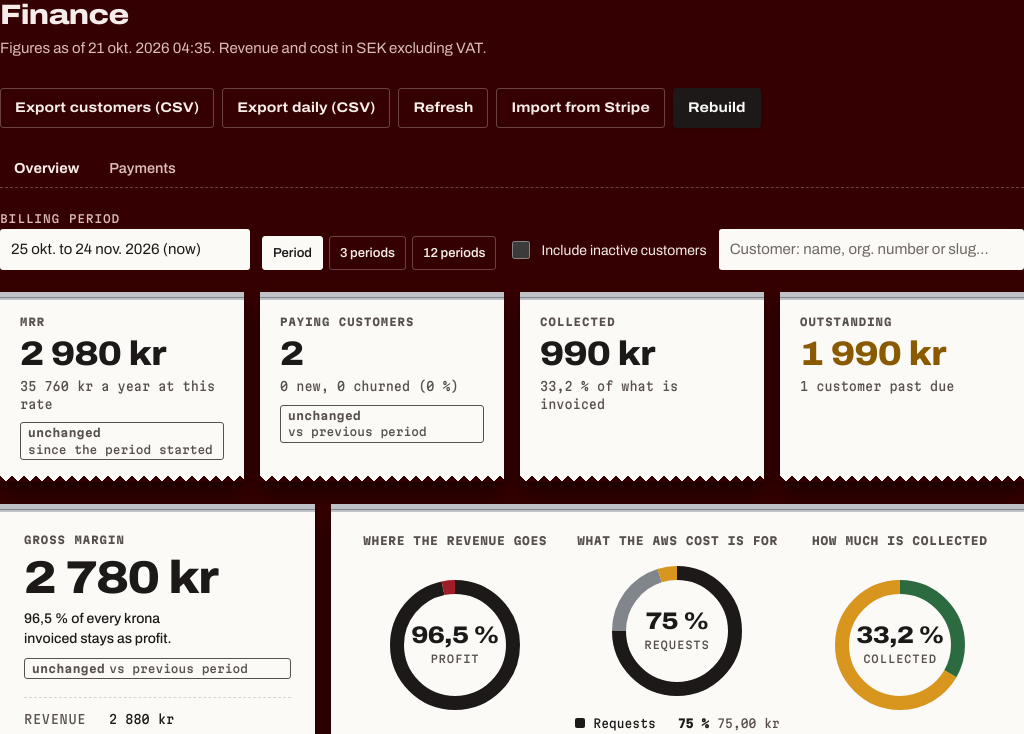
FinancePage › starts a rebuild for a range
Click the button "Rebuild".
click(717, 108)  # box [673,88,760,128]
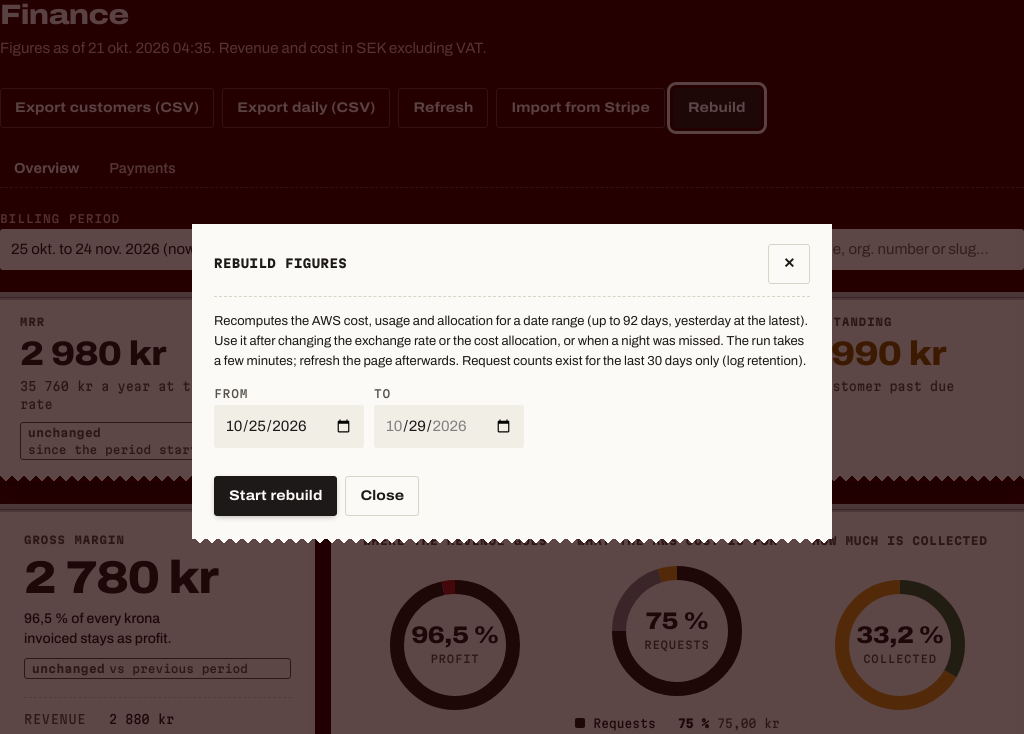
Click the button "Start rebuild".
click(276, 496)  # box [214,476,338,516]
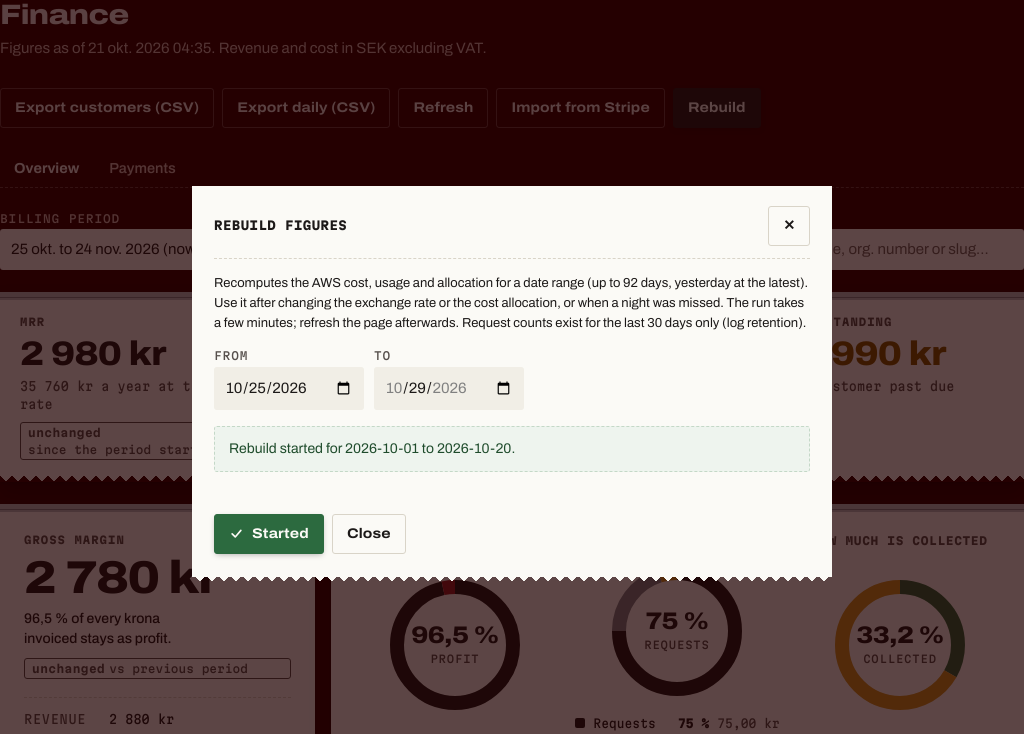
expect the text "Rebuild started for 2026-10-01 to 2026-10-20." is shown: met, box [214,426,810,472]
